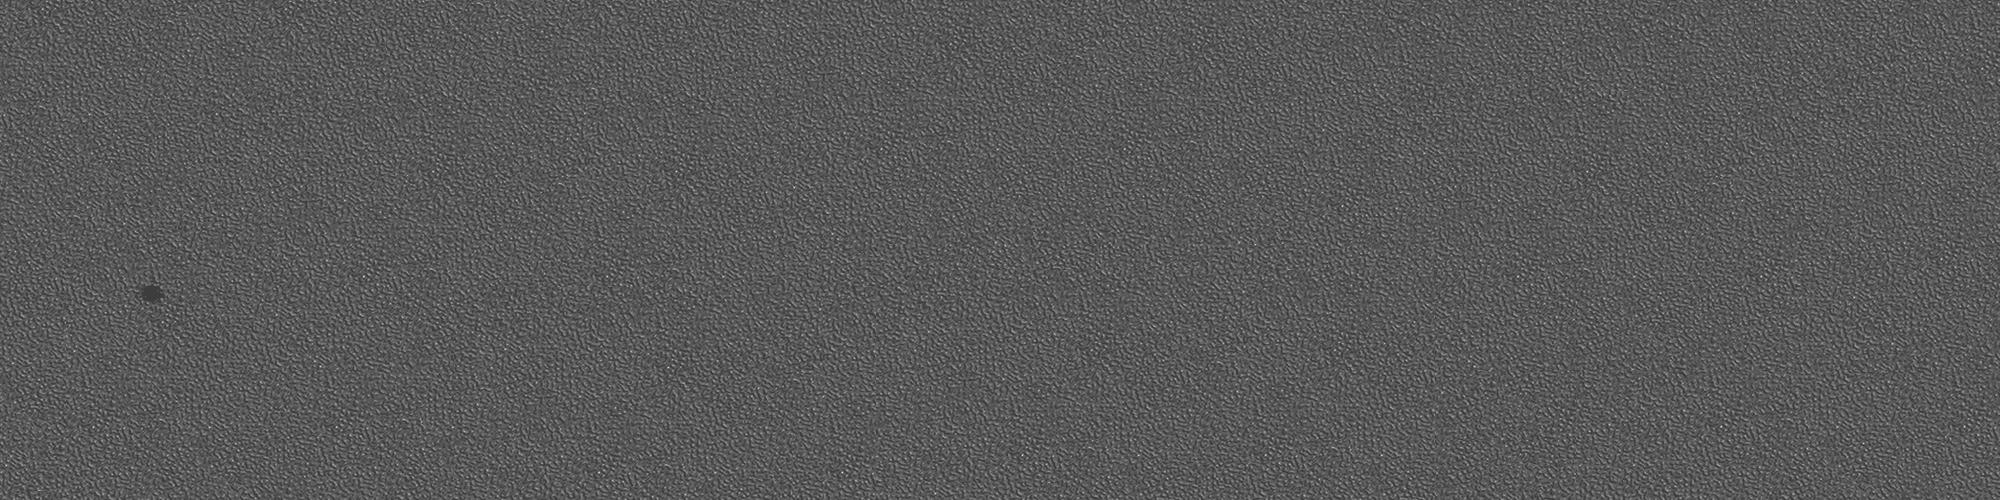Decomposed: (138, 281, 168, 304)
